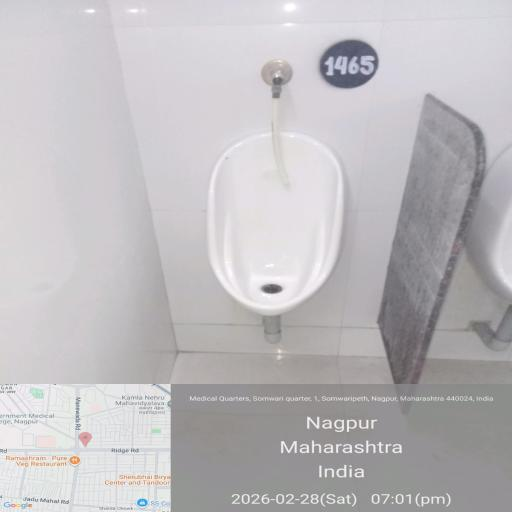clean_floor: (0, 6, 192, 376), (342, 12, 512, 321), (156, 332, 508, 391), (208, 18, 350, 100)
clean_urinal: (196, 132, 339, 310)
